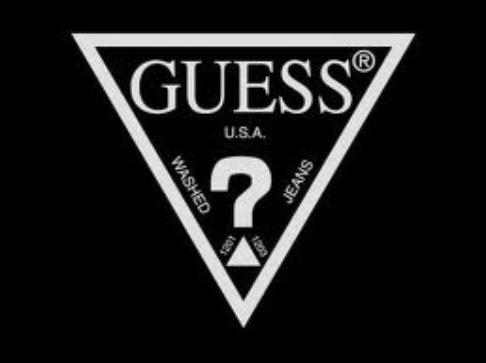GUESS: (64, 29, 440, 333)
